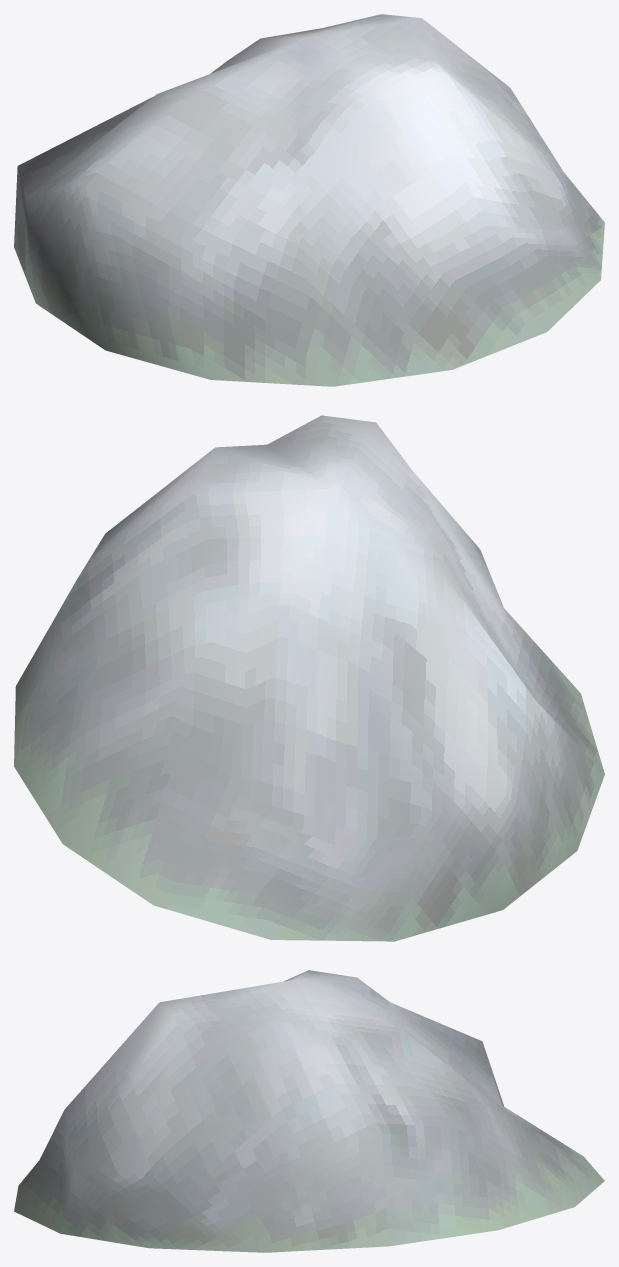
The model's file is TROLLHOLE02_STONEA16.fbx.
3 renders of one model, top to bottom at view 1: azimuth 30°, elevation 25°; view 2: azimuth 150°, elevation 25°; view 3: azimuth 270°, elevation 25°, orthographic. The views are drawn at different scales.
Visible parts, largest first — view 1: TROLLHOLE02_STONEA16; view 2: TROLLHOLE02_STONEA16; view 3: TROLLHOLE02_STONEA16.
Part boxes in pixels (<box>): TROLLHOLE02_STONEA16: <box>14,14,604,386</box>; TROLLHOLE02_STONEA16: <box>14,415,604,941</box>; TROLLHOLE02_STONEA16: <box>14,970,604,1252</box>.
Bounding box in the file's own units: 6257 × 3470 × 7681.
1 material, 1 textured.
